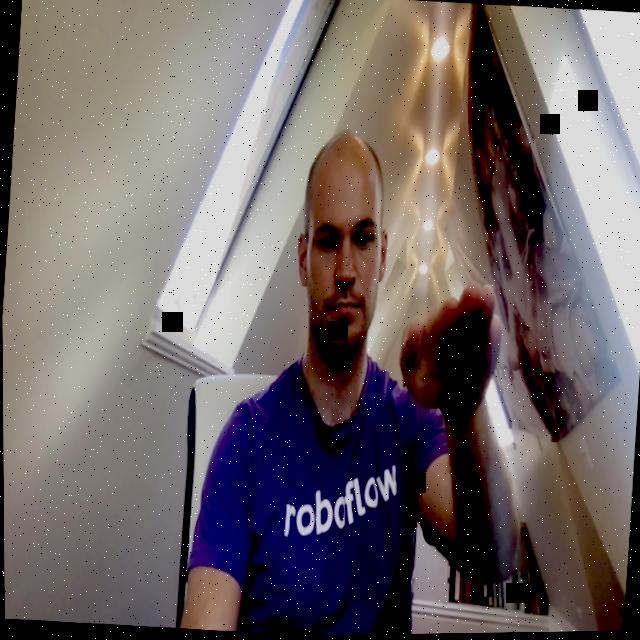Paper: (389, 269, 514, 430)
